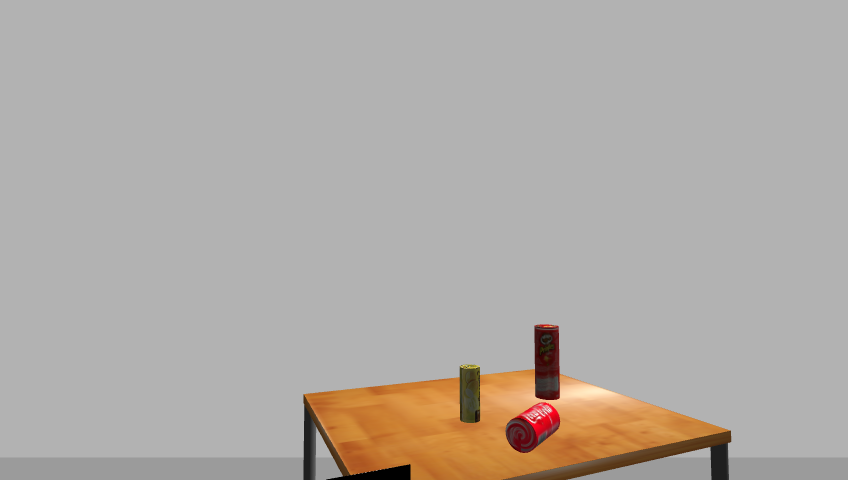aruco marker: (314, 464, 416, 480)
biscuits pack: (458, 364, 482, 425)
coke can: (503, 403, 563, 453)
dinner table: (292, 369, 740, 480)
pringles can: (532, 323, 562, 401)
